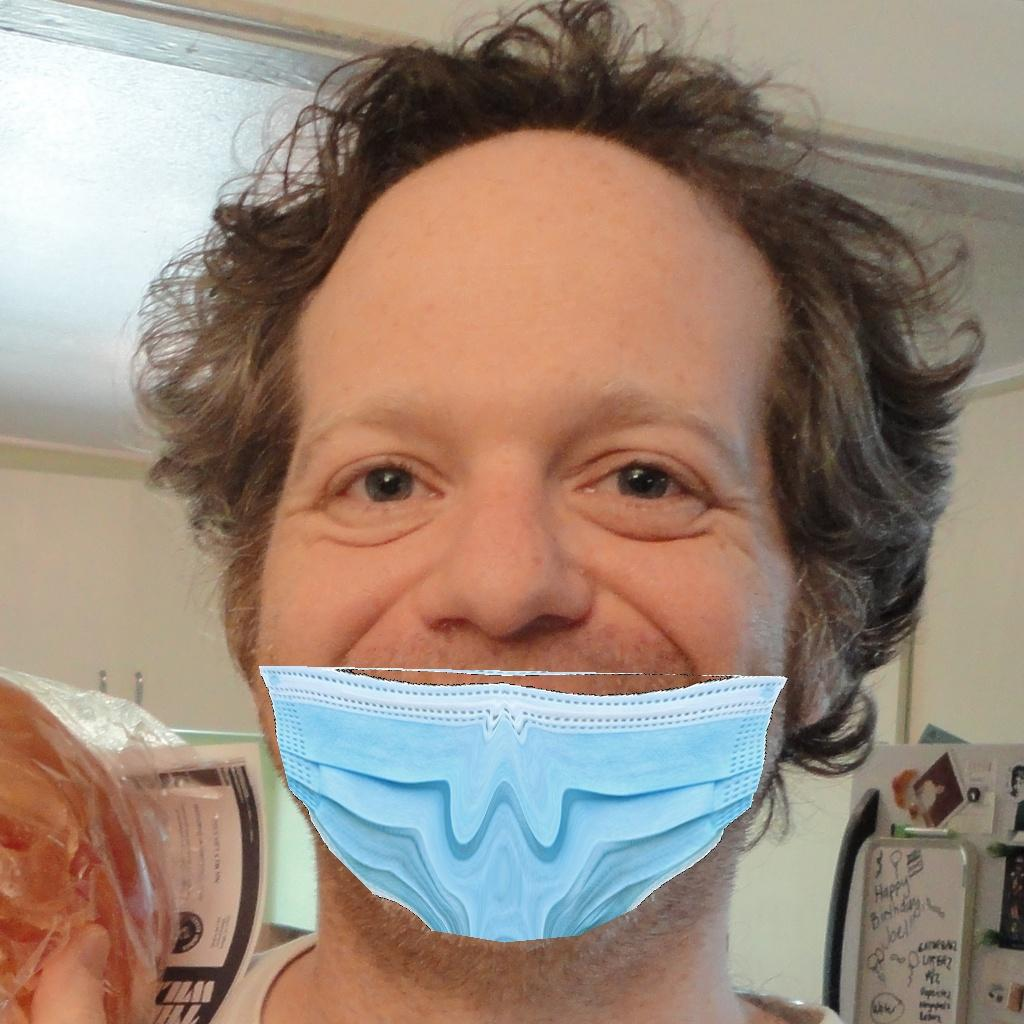Máscara Incorreta: (282, 329, 787, 939)
